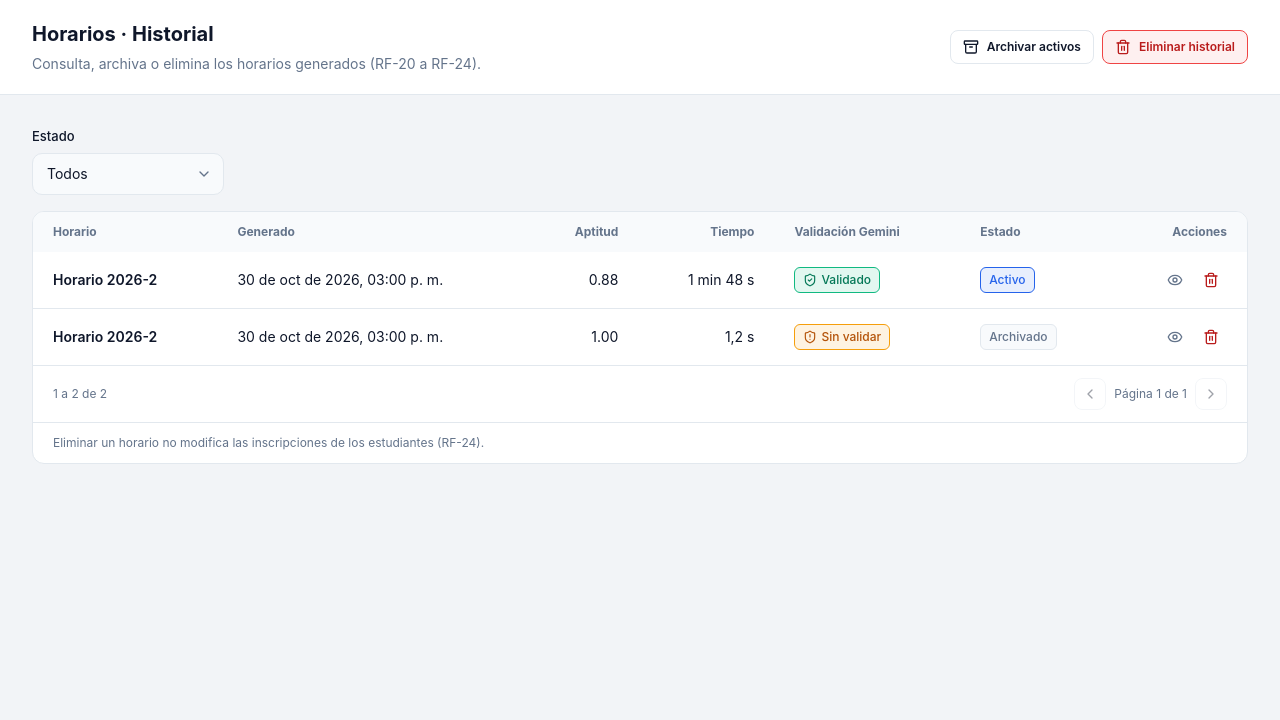
it: Historial de horarios (RF-20, RF-22, RF-23, RF-24) › elimina el historial archivado con confirmación (RF-23)
Click the button "Eliminar historial". click: (1175,47)
box: [1102, 30, 1248, 64]
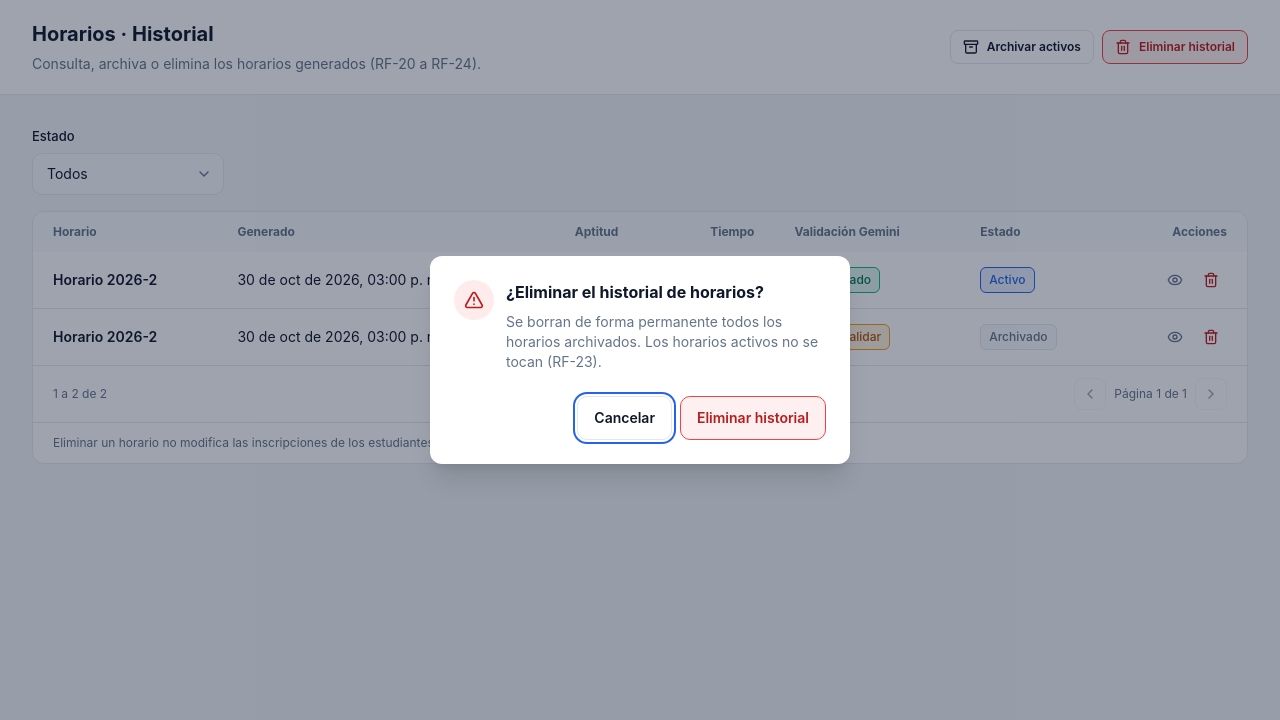
Click the button "Eliminar historial". click: (753,418)
box: [680, 396, 826, 440]
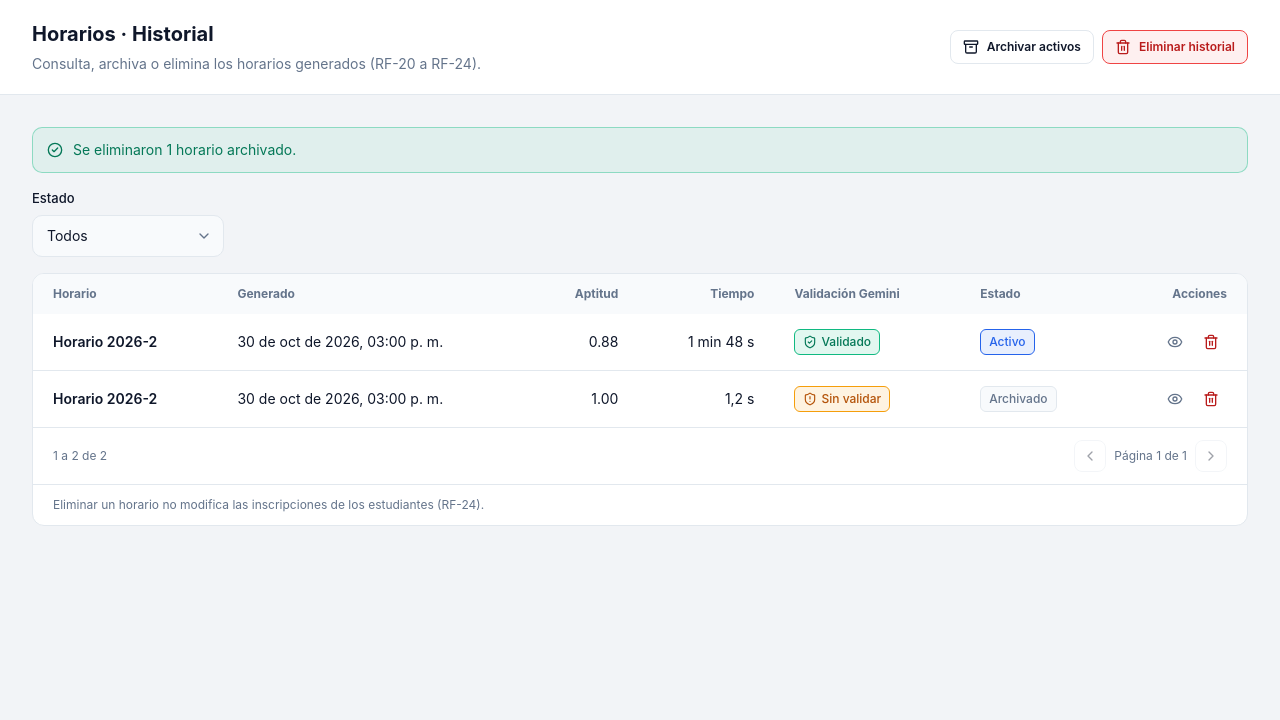
expect the text "Se eliminaron 1 horario archivado." is shown: met, box [73, 140, 296, 160]
